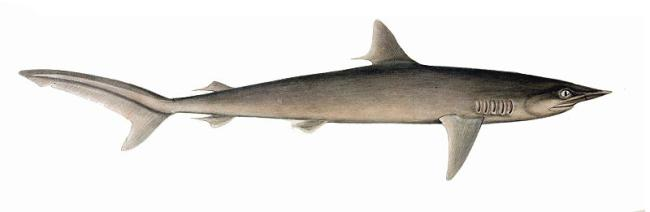fish: (18, 20, 614, 181)
